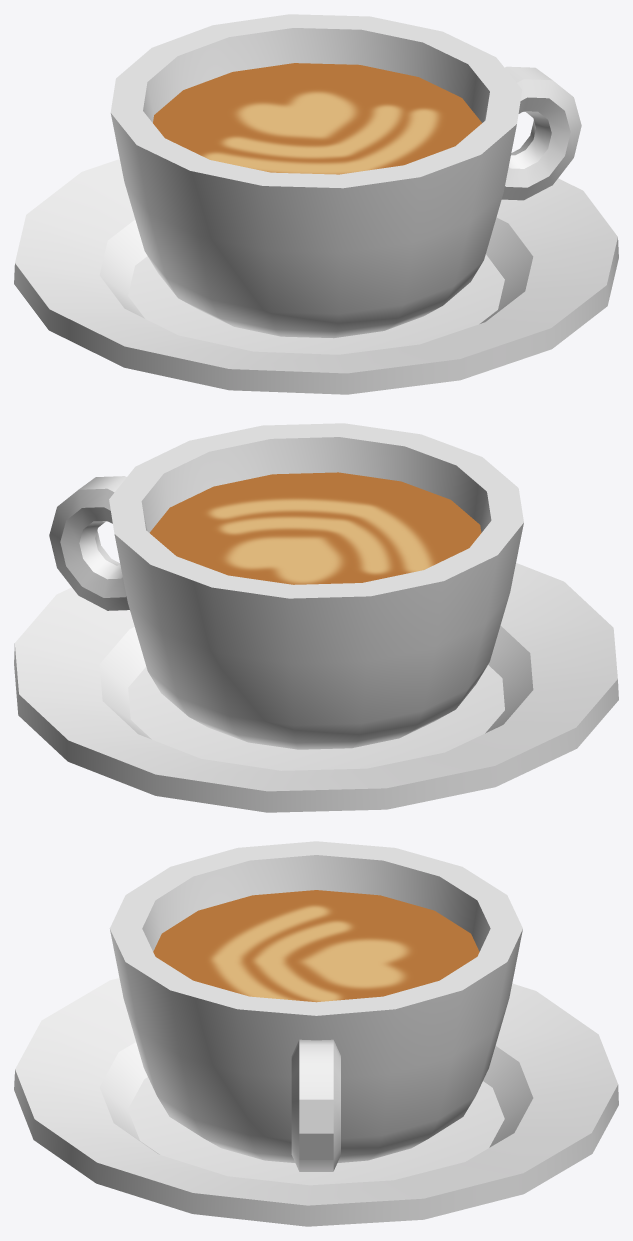
The model's file is Coffee_01.fbx.
3 views of the same model, one above another, from view 1: azimuth 30°, elevation 25°; view 2: azimuth 150°, elevation 25°; view 3: azimuth 270°, elevation 25° (orthographic).
Visible parts, largest first — view 1: Coffee_01; view 2: Coffee_01; view 3: Coffee_01.
Part boxes in pixels (x1=…): Coffee_01: x1=14, y1=14, x2=618, y2=394; Coffee_01: x1=14, y1=423, x2=618, y2=812; Coffee_01: x1=14, y1=841, x2=618, y2=1226.
Size of the model in its own units: 53.04 by 20.18 by 53.03.
